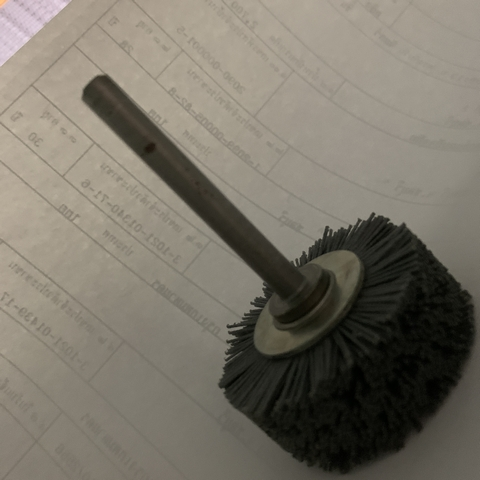Wheel Brush: (68, 58, 458, 479), (75, 68, 475, 476), (97, 83, 470, 456)
